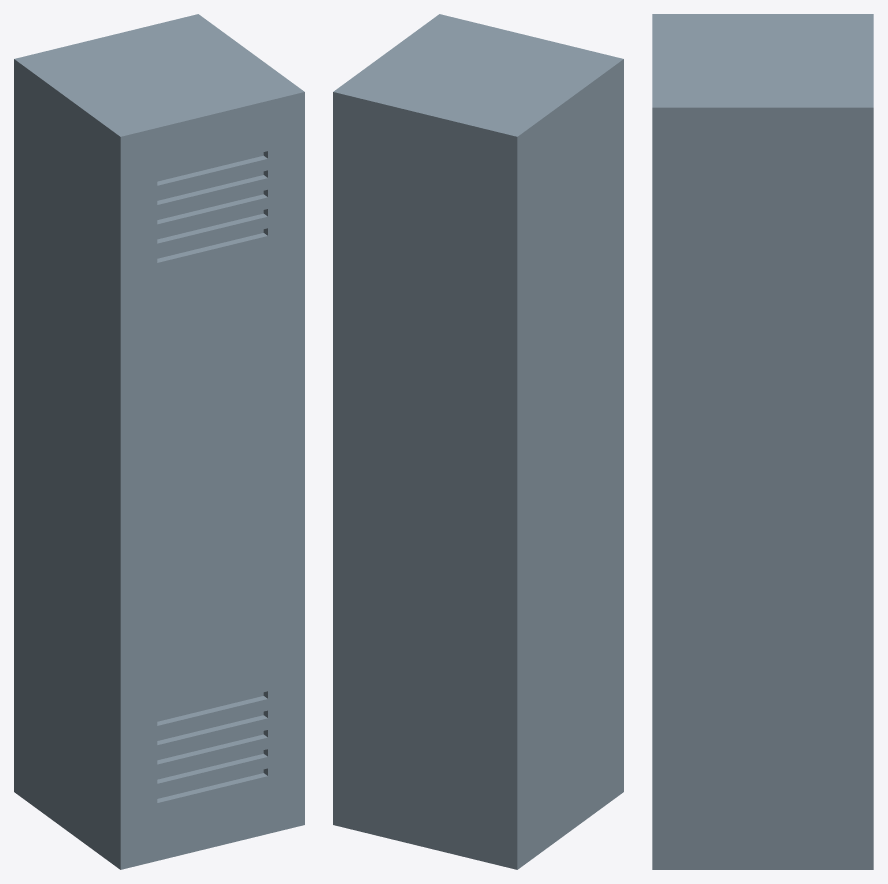
Rendered from loocker.glb.
3 views of the same model, side by side, from view 1: azimuth 30°, elevation 25°; view 2: azimuth 150°, elevation 25°; view 3: azimuth 270°, elevation 25° (orthographic). The views are drawn at different scales.
Parts seen in each view (by area): view 1: locker-col; view 2: locker-col; view 3: locker-col.
Part boxes in pixels (box(x1,y1,x2,y2)): locker-col: box(14, 14, 304, 869); locker-col: box(333, 14, 623, 869); locker-col: box(652, 14, 873, 869).
Bounding box in the file's own units: 0.5 × 1.9 × 0.5.
